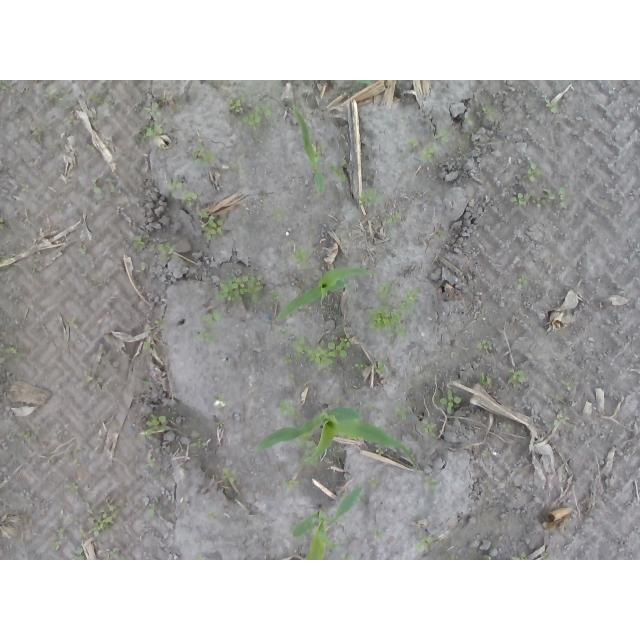Maize: (254, 406, 419, 470), (274, 266, 374, 322), (290, 485, 364, 560), (293, 105, 326, 196)
Weeds: (308, 334, 352, 371), (215, 274, 264, 304), (368, 305, 408, 339), (86, 504, 118, 536), (241, 106, 272, 132), (298, 428, 318, 468), (198, 211, 223, 242), (140, 414, 166, 439), (396, 287, 420, 312), (139, 120, 164, 144), (439, 389, 461, 413), (193, 144, 216, 166), (291, 335, 310, 361), (358, 189, 384, 208), (536, 188, 557, 209), (163, 176, 183, 197), (415, 531, 434, 553), (507, 368, 526, 389), (280, 399, 301, 418), (226, 96, 249, 113), (202, 309, 221, 329), (330, 160, 347, 182), (377, 281, 396, 299), (158, 241, 175, 261), (293, 249, 311, 267), (418, 145, 436, 163), (53, 527, 67, 550), (43, 89, 66, 103), (143, 100, 162, 116), (105, 548, 128, 561), (181, 192, 198, 209), (527, 163, 542, 182), (20, 427, 40, 441), (510, 192, 532, 204), (212, 393, 228, 409), (199, 328, 214, 345), (422, 420, 437, 437), (423, 476, 438, 492), (87, 375, 104, 389), (91, 177, 104, 195), (221, 468, 235, 484), (89, 90, 105, 104), (132, 236, 145, 253), (559, 186, 569, 208), (153, 315, 167, 330), (143, 341, 157, 356), (283, 479, 300, 491), (546, 99, 559, 114), (476, 339, 493, 350), (317, 143, 327, 161), (517, 274, 527, 291), (205, 509, 219, 521), (396, 405, 408, 419), (553, 414, 567, 426), (435, 129, 449, 141), (367, 477, 382, 488), (375, 360, 386, 375), (387, 213, 402, 224), (350, 281, 359, 299), (5, 346, 21, 356), (270, 289, 283, 301), (72, 548, 85, 560), (479, 374, 492, 386), (406, 136, 418, 149), (66, 114, 79, 126), (276, 328, 293, 337), (190, 440, 209, 448), (511, 552, 529, 560), (233, 163, 246, 174), (65, 482, 80, 491), (137, 378, 152, 386), (463, 112, 473, 124), (566, 382, 579, 391), (341, 552, 355, 560), (145, 458, 156, 468), (282, 353, 292, 364), (147, 504, 155, 517), (356, 362, 369, 370), (483, 106, 496, 114), (373, 529, 383, 539), (20, 182, 30, 192), (437, 229, 447, 239), (65, 317, 75, 327), (354, 80, 372, 85), (286, 374, 295, 383), (33, 128, 43, 136), (376, 447, 384, 456), (504, 424, 513, 432), (362, 403, 374, 409), (274, 209, 282, 218), (541, 552, 549, 561), (2, 254, 13, 260), (216, 421, 225, 428), (482, 450, 491, 456), (0, 80, 6, 89), (78, 247, 87, 253), (0, 217, 4, 230), (335, 397, 342, 404), (448, 554, 456, 560), (197, 554, 204, 560), (140, 262, 145, 270)
